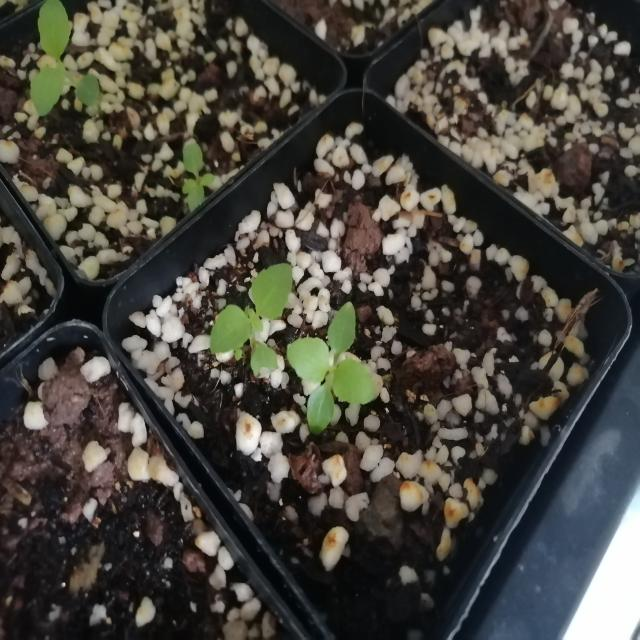billygoat_weed: (206, 251, 303, 398), (292, 303, 381, 446)
